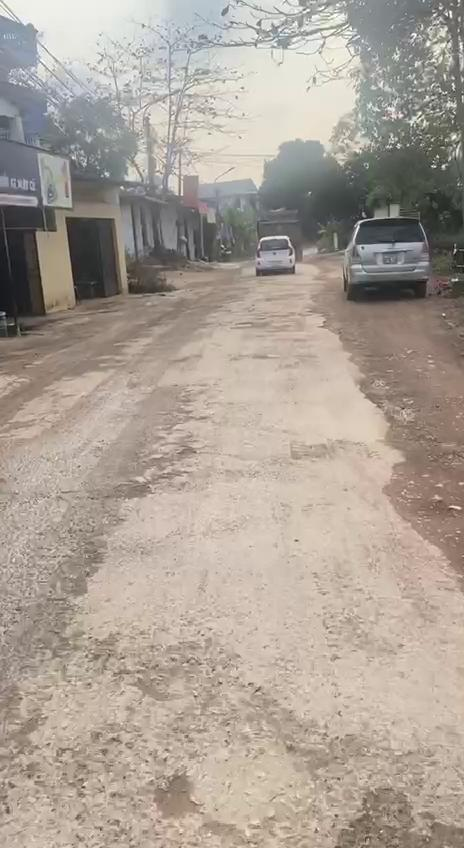pothole: (323, 782, 464, 848), (155, 762, 198, 828)
